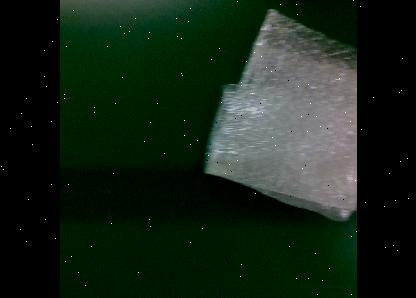Others: (200, 9, 356, 221)
